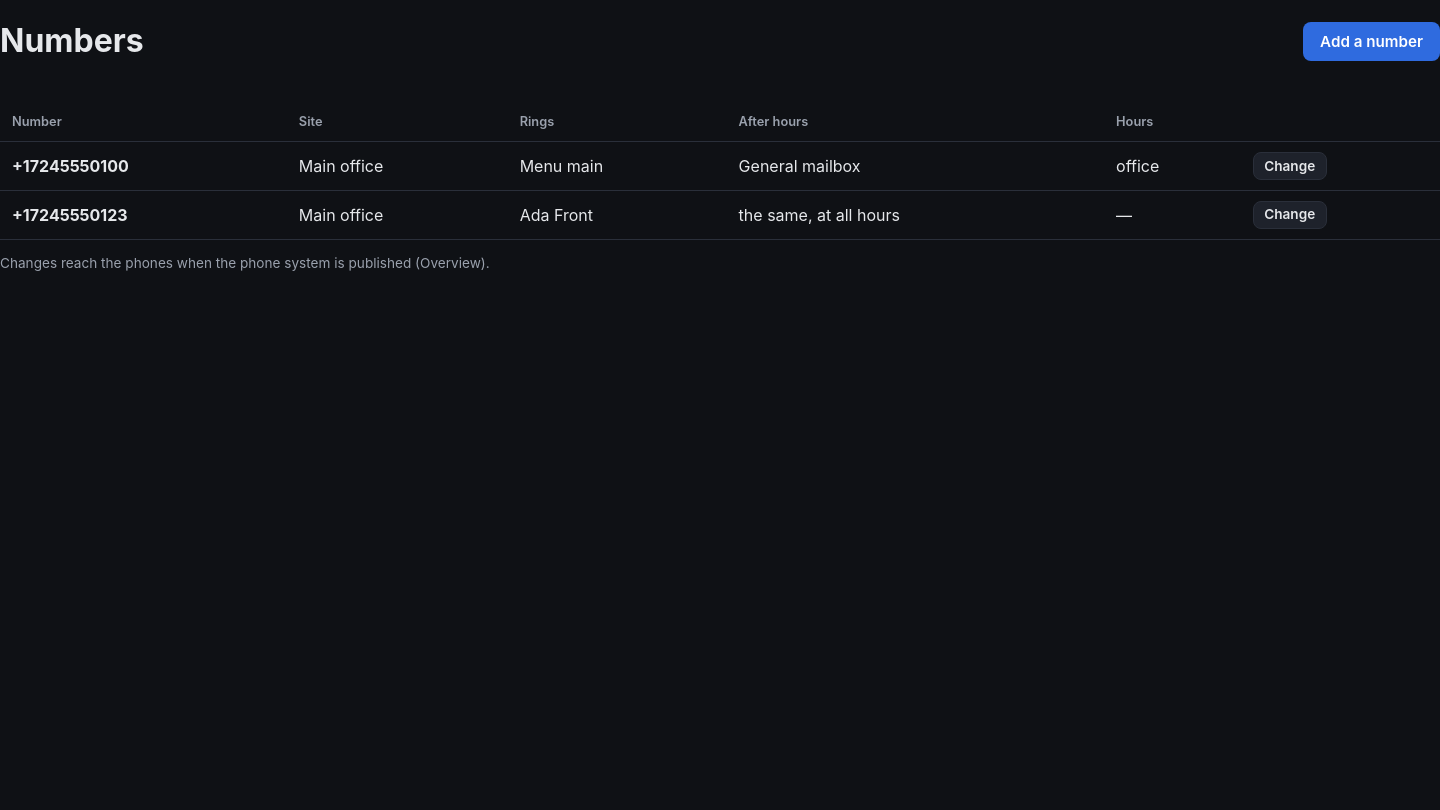
numbers › shows what the server refused, and says when there is no phone system
Later steps or results of the test are not shown.
Click the button with aria-label "Change +17245550123".
click(1290, 215)  # box x1=1253 y1=201 x2=1327 y2=229
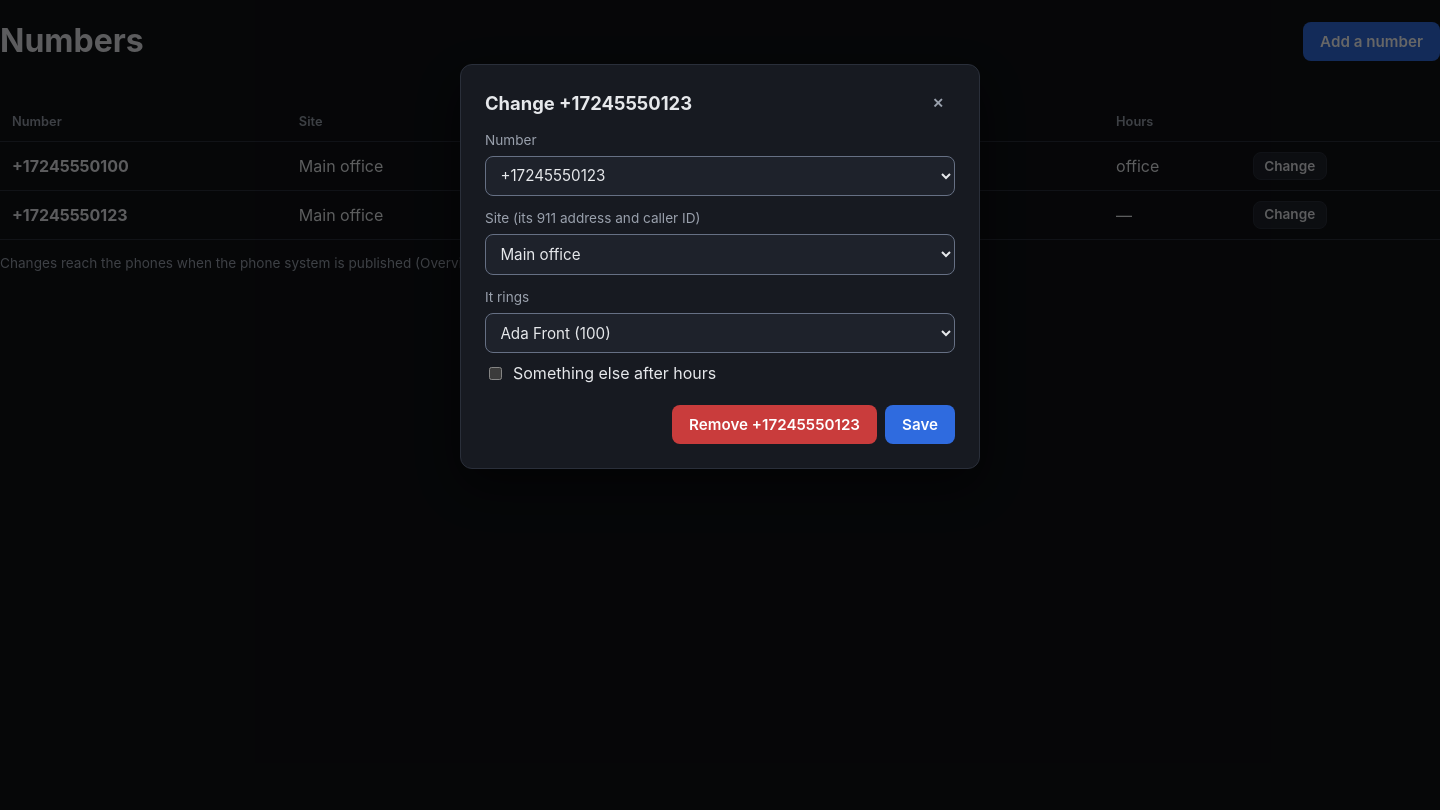
Click the button "Save".
click(920, 425)  # box x1=885 y1=405 x2=955 y2=444
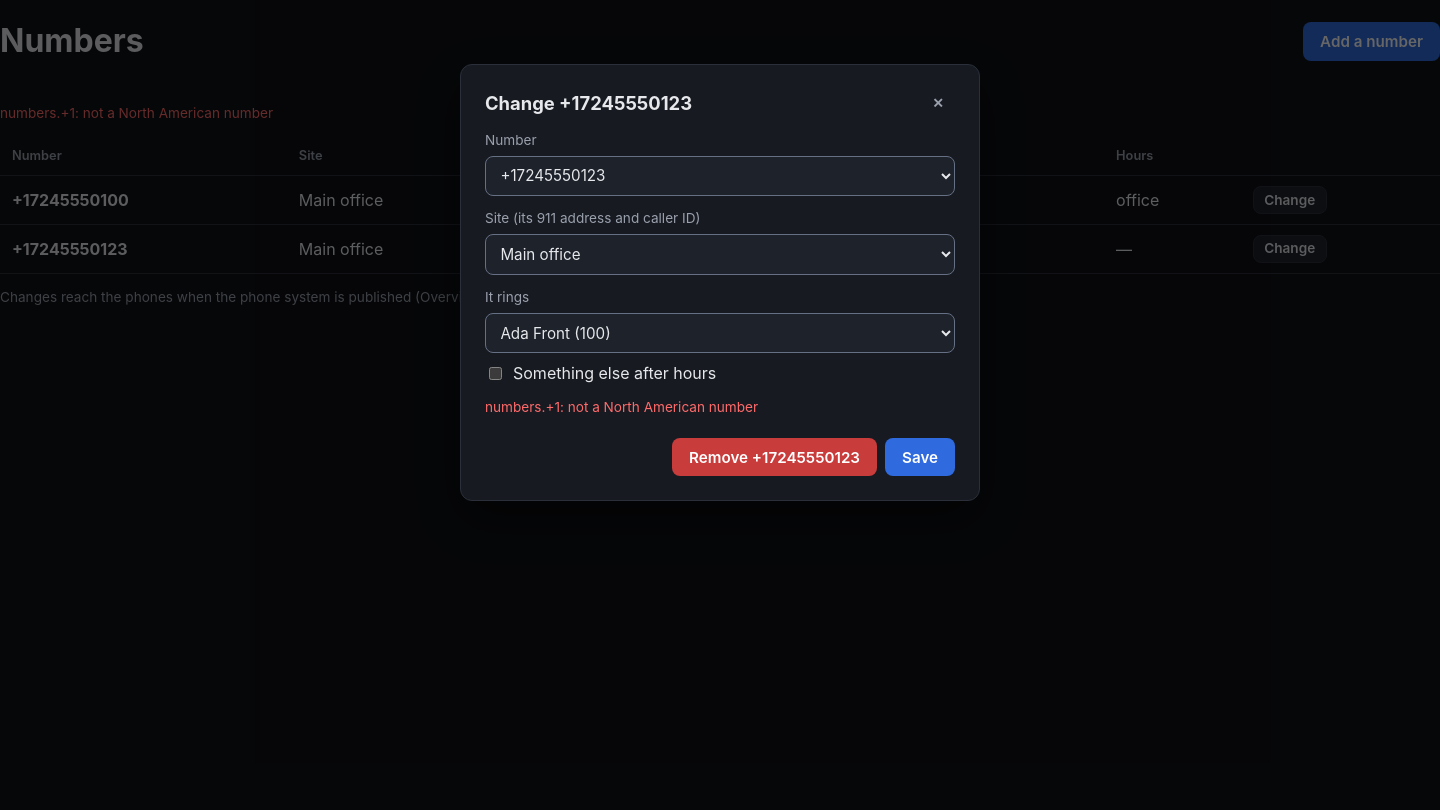
Expected: the message "numbers.+1: not a North American number" below "Something else after hours" is shown, x1=485 y1=399 x2=758 y2=415
